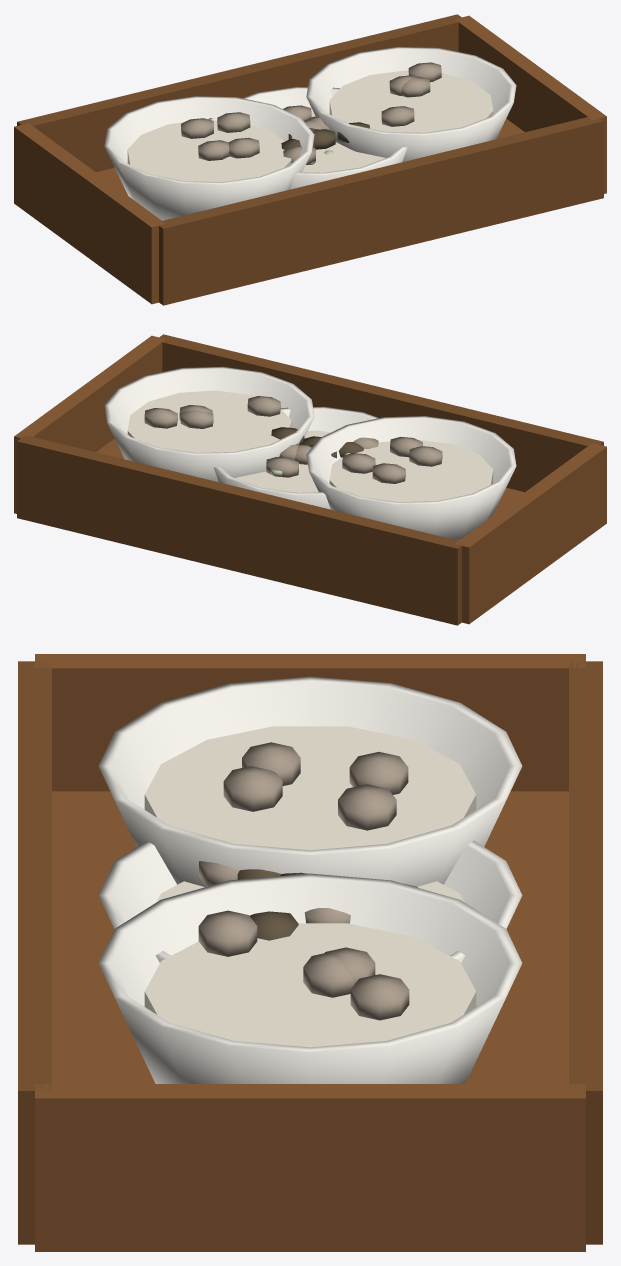
Rendered from Sea_ClamSoup.fbx.
3 views of the same model, one above another, from view 1: azimuth 30°, elevation 25°; view 2: azimuth 150°, elevation 25°; view 3: azimuth 270°, elevation 25° (orthographic). The views are drawn at different scales.
Visible parts, largest first — view 1: Sea_ClamSoup__Stack, Sea_ClamSoup, Sea_ClamSoup__Rotten; view 2: Sea_ClamSoup__Stack, Sea_ClamSoup, Sea_ClamSoup__Rotten; view 3: Sea_ClamSoup__Stack, Sea_ClamSoup, Sea_ClamSoup__Rotten.
Boxes of the visible parts, x1,y1,x2,y2 form: Sea_ClamSoup__Stack: (14,14,606,305); Sea_ClamSoup: (208,86,407,189); Sea_ClamSoup__Rotten: (281,122,369,164); Sea_ClamSoup__Stack: (14,334,606,625); Sea_ClamSoup: (213,406,378,509); Sea_ClamSoup__Rotten: (270,427,363,475); Sea_ClamSoup__Stack: (18,654,602,1251); Sea_ClamSoup: (98,841,522,962); Sea_ClamSoup__Rotten: (206,869,307,940).
Bounding box in the file's own units: 0.248 × 0.046 × 0.138.
